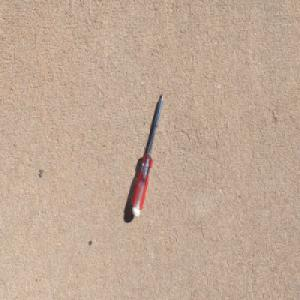Screwdriver: (131, 89, 165, 219)
